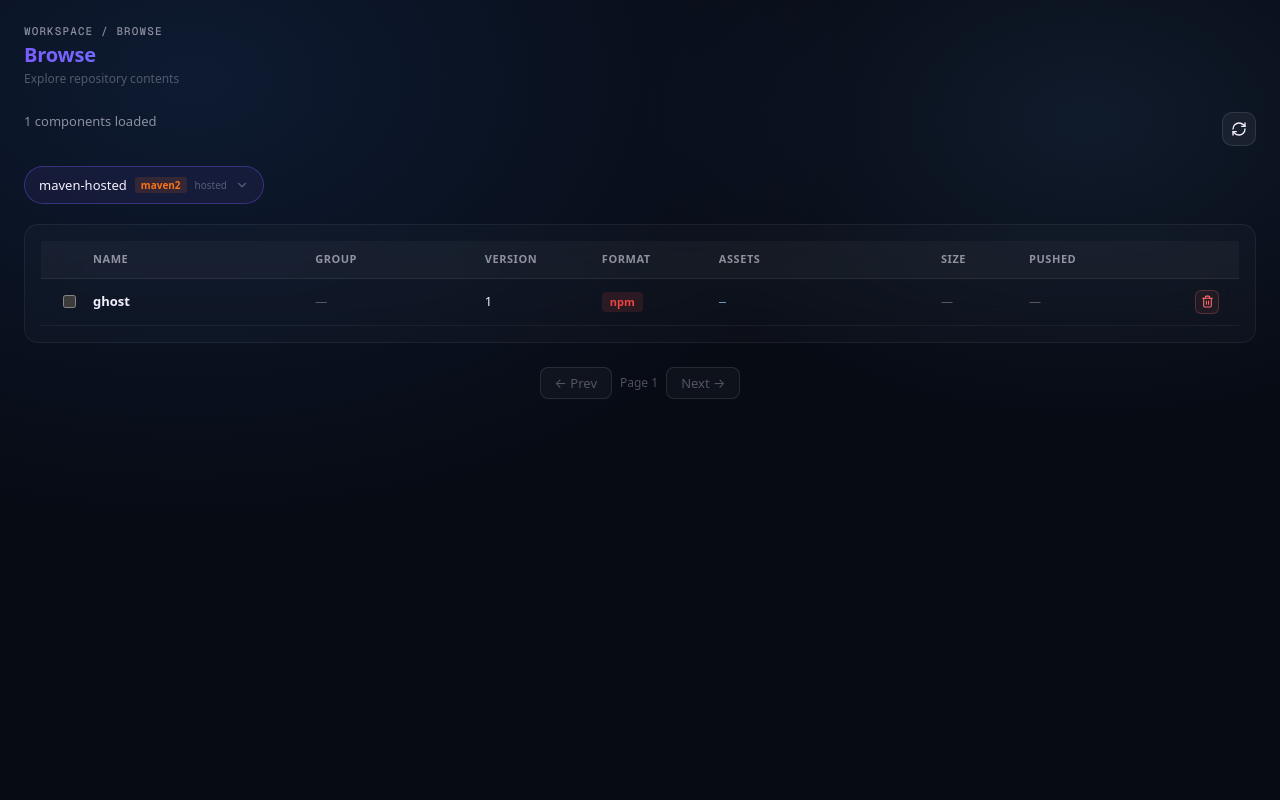
Test: BrowsePage — repo selector & empty states › reports an error instead of deleting a component that has no assets
Expected: the text "ghost" is shown, [93,292,130,310]
Click the button titled "Delete".
click(1207, 302)  # box [1195,290,1219,314]
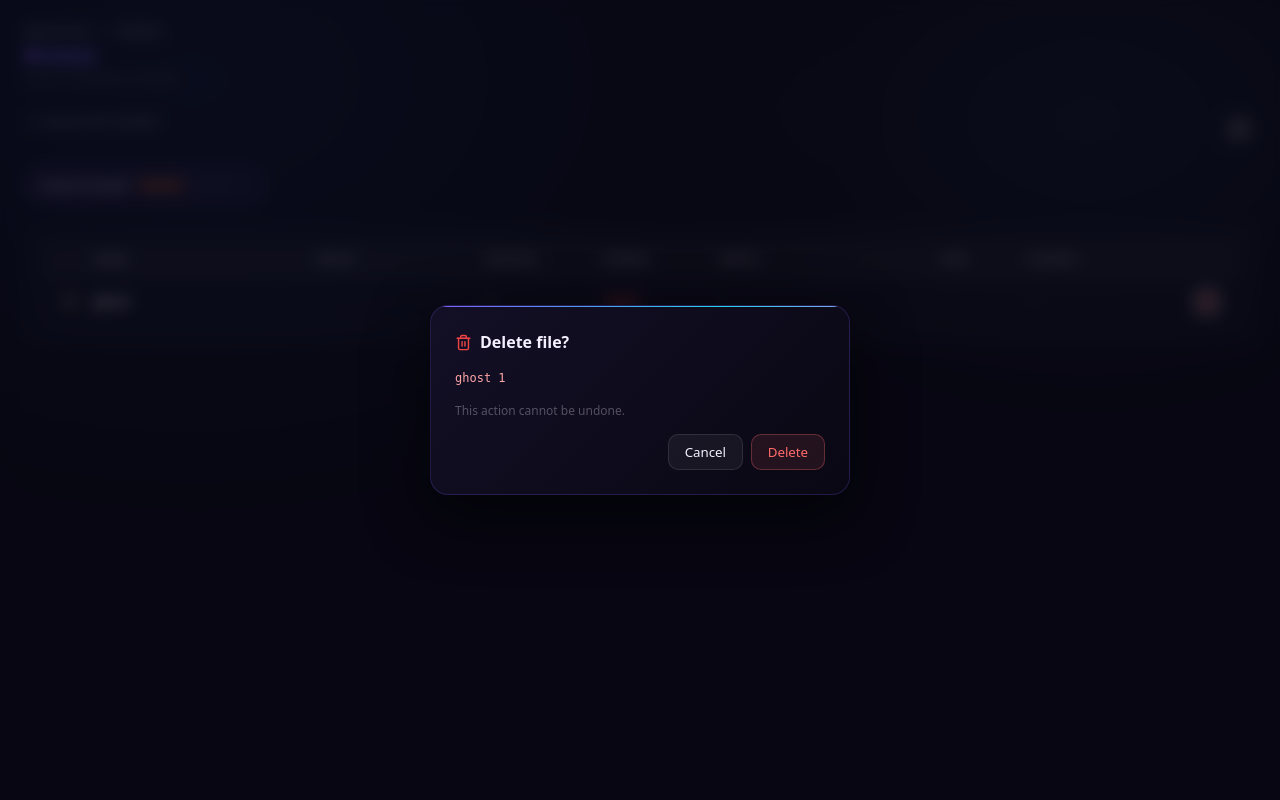
Now the heading "Delete file?" is shown, box [455,331,569,353]
Click the button "Delete".
click(788, 452)  # box [751,434,825,470]
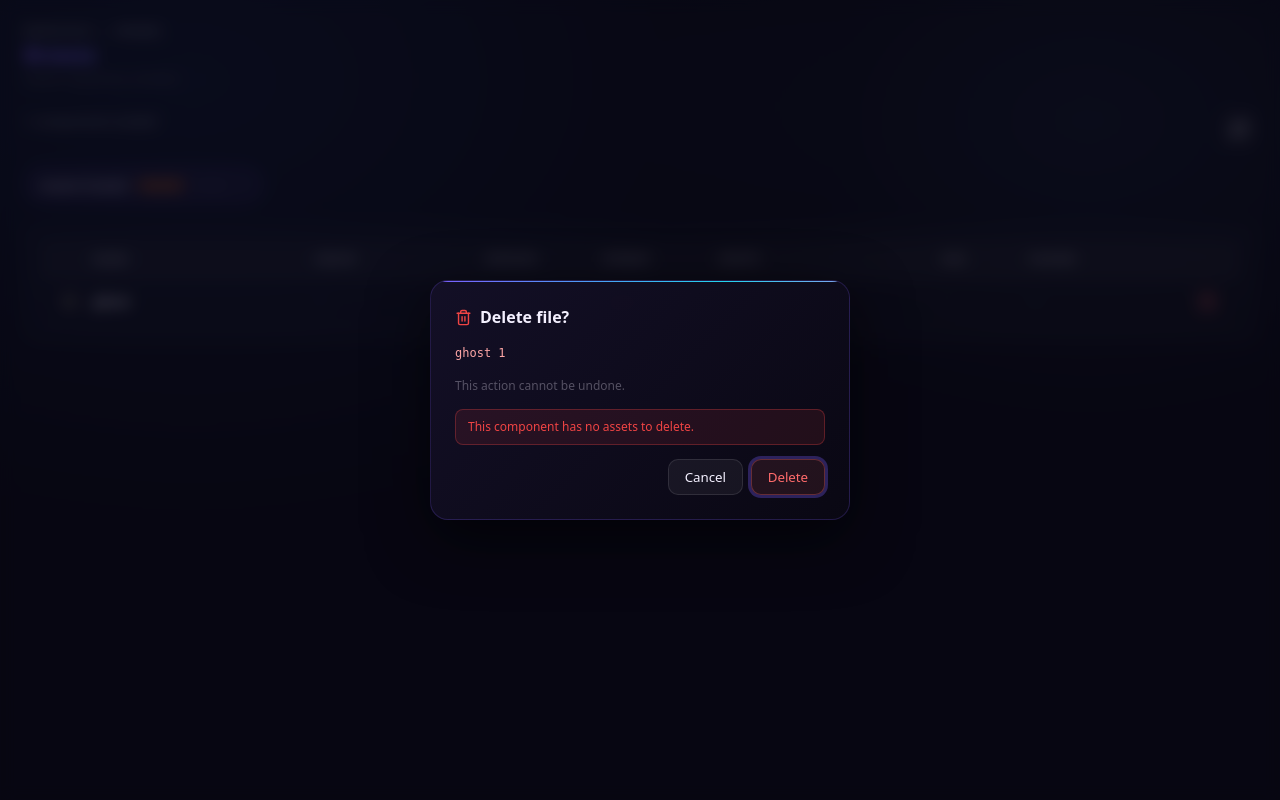
Now the text "This component has no assets to delete." is shown, box [455,409,825,445]
